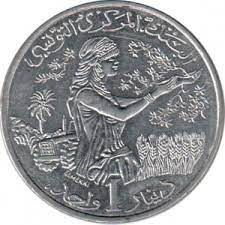1 dinar: (2, 0, 224, 222)
